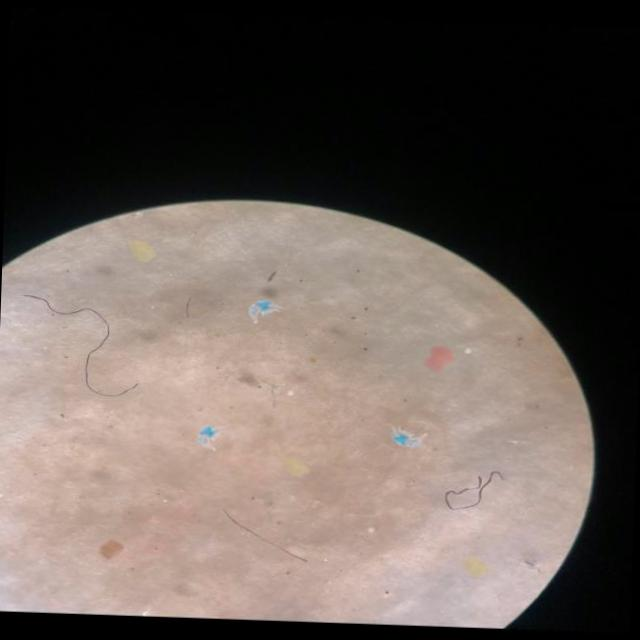fiber: (30, 296, 138, 397), (223, 510, 308, 561), (445, 470, 504, 509)
film: (250, 299, 274, 320), (392, 436, 420, 447), (200, 429, 217, 444)
fragment: (427, 346, 452, 370), (99, 540, 124, 559), (131, 241, 154, 261), (284, 458, 308, 476), (465, 556, 487, 575)
pellet: (465, 347, 472, 353), (368, 527, 375, 533), (288, 389, 293, 395)
